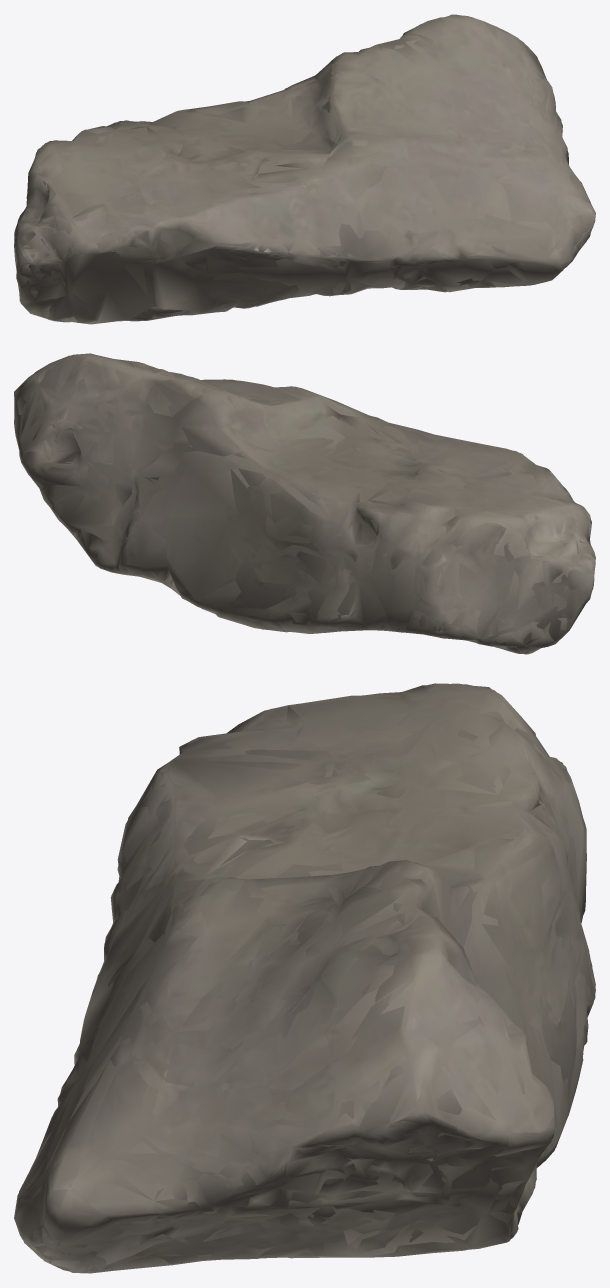
Rendered from moon_rock_01.glb.
The picture shows the model from 3 angles, top to bottom: view 1: azimuth 30°, elevation 25°; view 2: azimuth 150°, elevation 25°; view 3: azimuth 270°, elevation 25°; orthographic projection. The views are drawn at different scales.
Parts seen in each view (by area): view 1: moon_rock_01_LOD0; view 2: moon_rock_01_LOD0; view 3: moon_rock_01_LOD0.
Boxes of the visible parts, x1,y1,x2,y2 form: moon_rock_01_LOD0: (14,14,595,324); moon_rock_01_LOD0: (14,353,595,654); moon_rock_01_LOD0: (14,683,595,1273).
Bounding box in the file's own units: 0.2123 × 0.0753 × 0.1117.
Materials: 1 (1 with a texture image).
